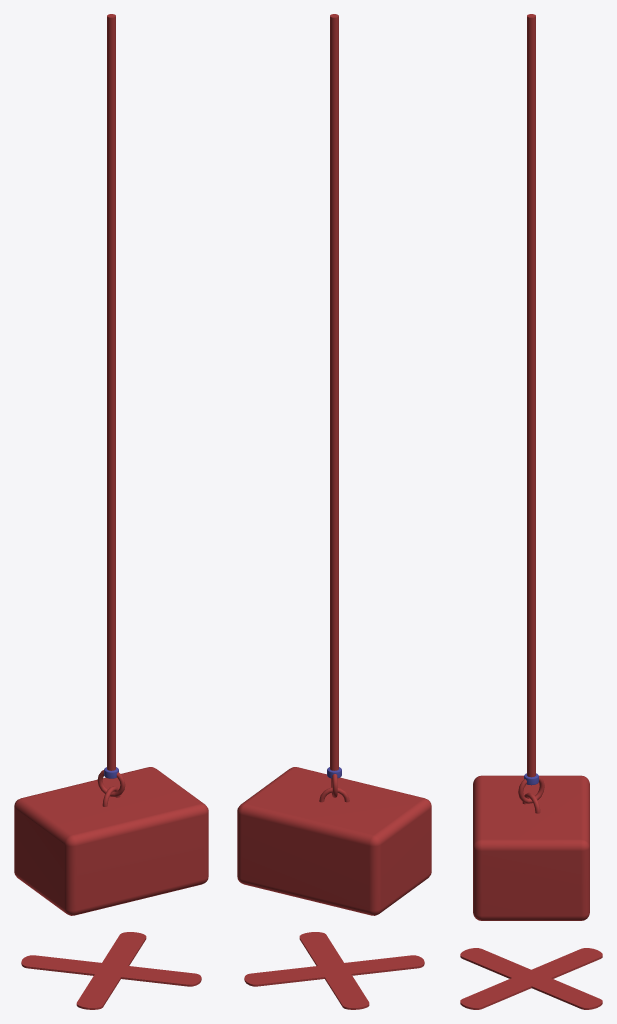
Rendered from Obstance_X.fbx.
3 renders of one model, left to right at view 1: azimuth 30°, elevation 25°; view 2: azimuth 150°, elevation 25°; view 3: azimuth 270°, elevation 25°, orthographic.
Parts seen in each view (by area): view 1: Weight, Obstance_X; view 2: Weight, Obstance_X; view 3: Weight, Obstance_X.
Part boxes in pixels (left/top/right/bottom): Weight: left=14, top=14, right=208, bottom=915; Obstance_X: left=21, top=932, right=201, bottom=1009; Weight: left=237, top=14, right=431, bottom=915; Obstance_X: left=244, top=932, right=424, bottom=1009; Weight: left=473, top=14, right=589, bottom=920; Obstance_X: left=460, top=948, right=602, bottom=1009.
Size of the model in its own units: 46.56 by 297 by 39.74.
